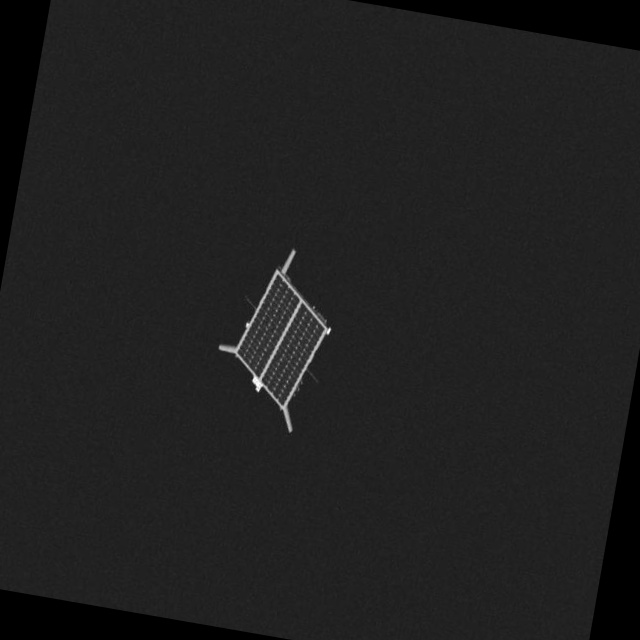medium_debris: (196, 235, 345, 437)
